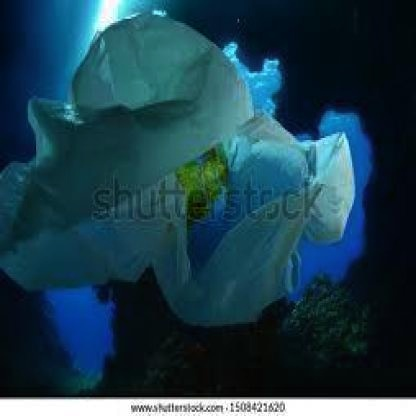pbag: (2, 13, 358, 324)
